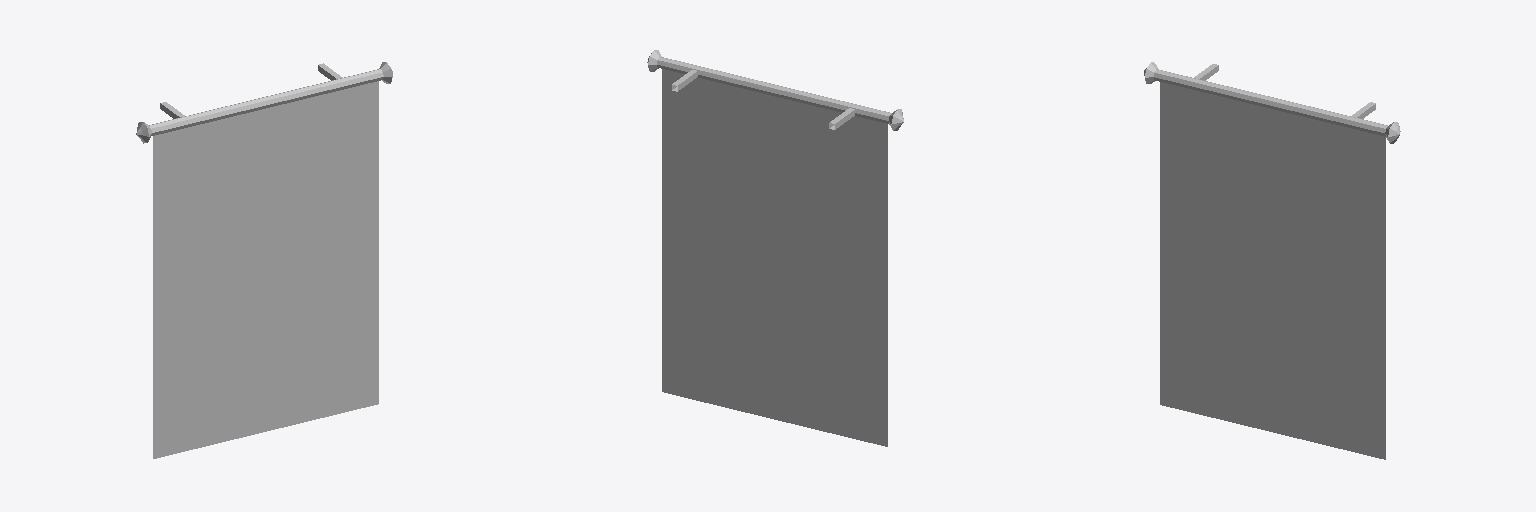
File: banner.obj
3 renders of one model, left to right at view 1: azimuth 30°, elevation 25°; view 2: azimuth 150°, elevation 25°; view 3: azimuth 330°, elevation 25°, orthographic.
Parts seen in each view (by area): view 1: polySurface18, polySurface22, polySurface19; view 2: polySurface22, polySurface18, polySurface19; view 3: polySurface18, polySurface22, polySurface19.
Boxes of the visible parts, x1,y1,x2,y2 form: polySurface18: [153, 82, 378, 457]; polySurface22: [153, 81, 378, 458]; polySurface19: [136, 62, 392, 143]; polySurface22: [662, 69, 887, 445]; polySurface18: [662, 69, 887, 446]; polySurface19: [647, 50, 903, 130]; polySurface18: [1160, 82, 1385, 458]; polySurface22: [1160, 83, 1385, 459]; polySurface19: [1144, 62, 1400, 143].
Size of the model in its own units: 1.63 by 2.07 by 0.3168.